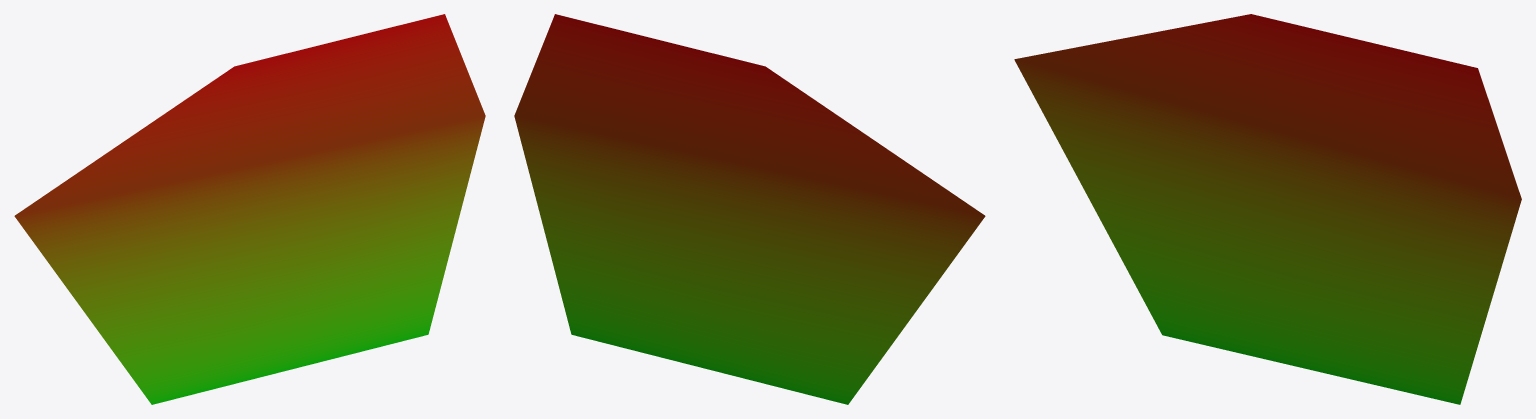
File: Cotton Grass_LOD4_Var8_wlykecdia.fbx
The picture shows the model from 3 angles, left to right: view 1: azimuth 30°, elevation 25°; view 2: azimuth 150°, elevation 25°; view 3: azimuth 330°, elevation 25°; orthographic projection. The views are drawn at different scales.
Visible parts, largest first — view 1: _w27d_Var8_LOD4; view 2: _w27d_Var8_LOD4; view 3: _w27d_Var8_LOD4.
Part boxes in pixels (x1=…): _w27d_Var8_LOD4: x1=14, y1=14, x2=485, y2=404; _w27d_Var8_LOD4: x1=514, y1=14, x2=985, y2=404; _w27d_Var8_LOD4: x1=1014, y1=14, x2=1521, y2=404.
Size of the model in its own units: 25.3 by 16.39 by 1.88e-07.
